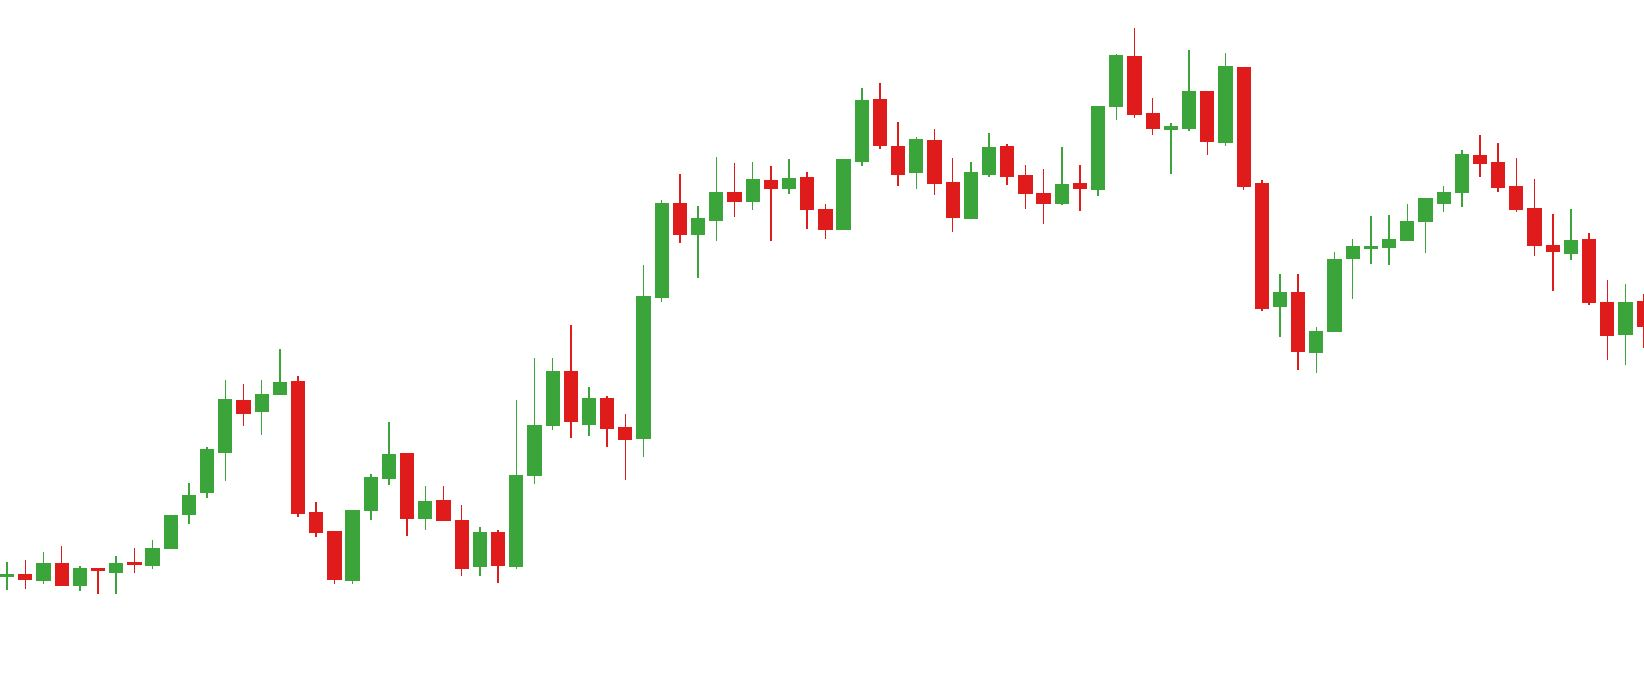sell: (853, 28, 1143, 166)
